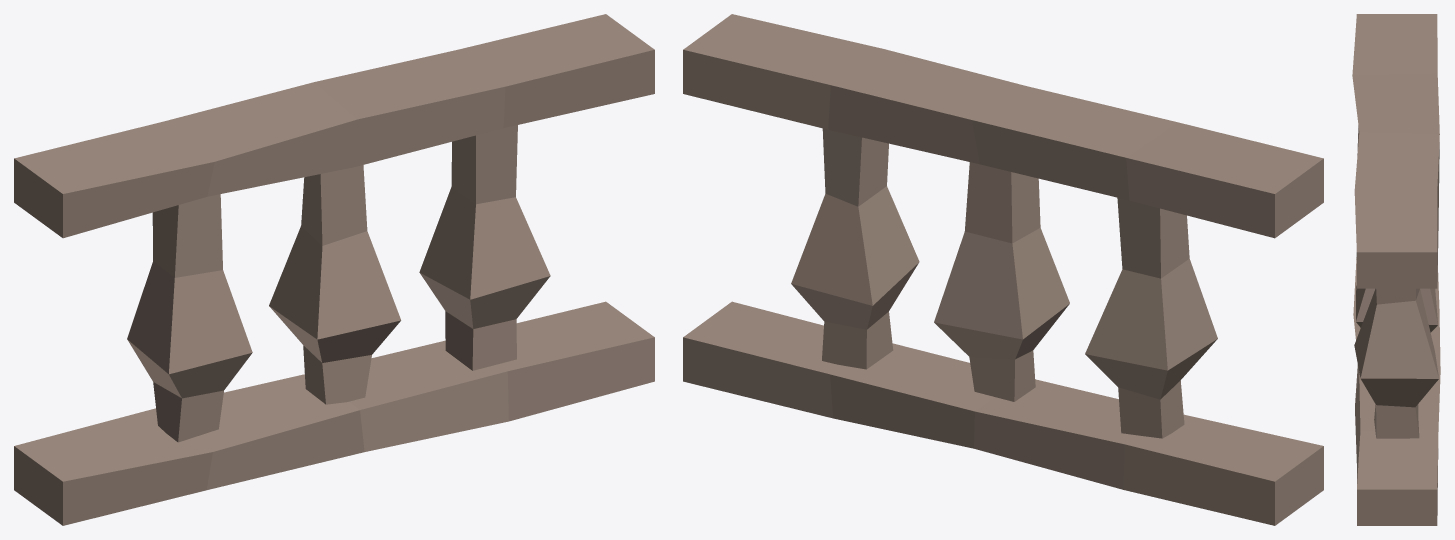
File: Railing.fbx
3 views of the same model, side by side, from view 1: azimuth 30°, elevation 25°; view 2: azimuth 150°, elevation 25°; view 3: azimuth 270°, elevation 25° (orthographic). The views are drawn at different scales.
Parts seen in each view (by area): view 1: Railing; view 2: Railing; view 3: Railing.
Part boxes in pixels (left/top/right/bottom): Railing: left=14, top=14, right=654, bottom=525; Railing: left=683, top=14, right=1323, bottom=525; Railing: left=1352, top=14, right=1440, bottom=525.
Size of the model in its own units: 0.875 by 0.1369 by 0.4774.
